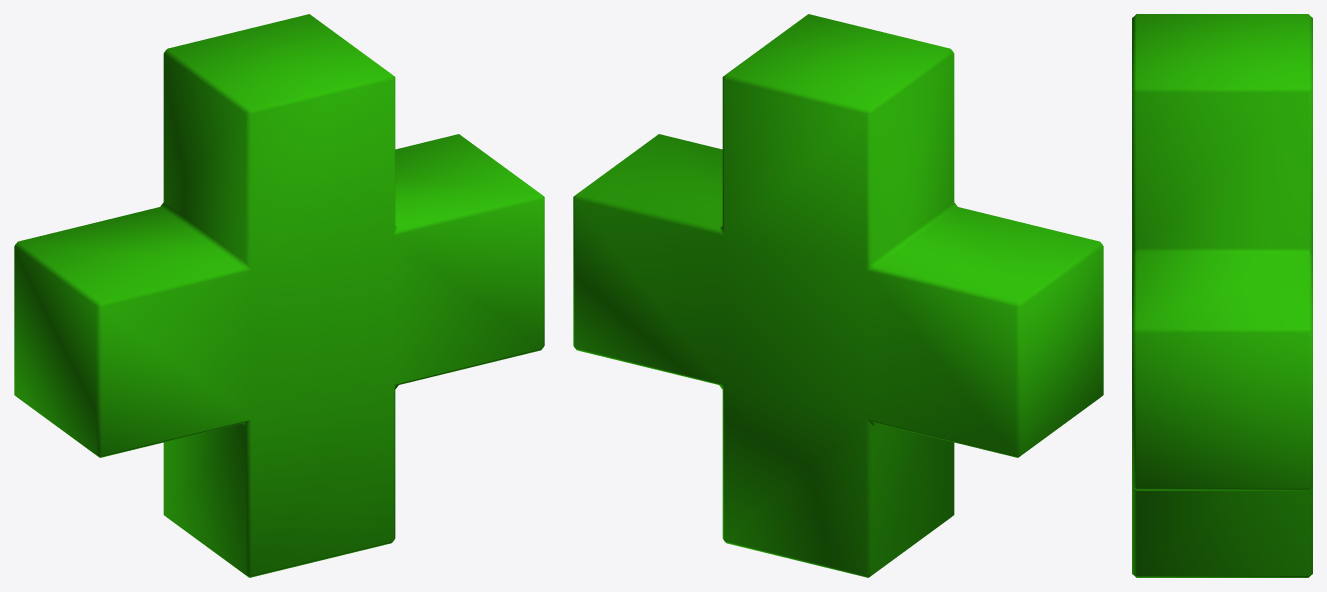
The model's file is Item_HP.fbx.
3 renders of one model, left to right at view 1: azimuth 30°, elevation 25°; view 2: azimuth 150°, elevation 25°; view 3: azimuth 270°, elevation 25°, orthographic. The views are drawn at different scales.
Visible parts, largest first — view 1: heart; view 2: heart; view 3: heart.
Boxes of the visible parts, x1=… form: heart: x1=14, y1=14, x2=544, y2=577; heart: x1=573, y1=14, x2=1103, y2=577; heart: x1=1132, y1=14, x2=1312, y2=577.
Bounding box in the file's own units: 60 × 60 × 20.
